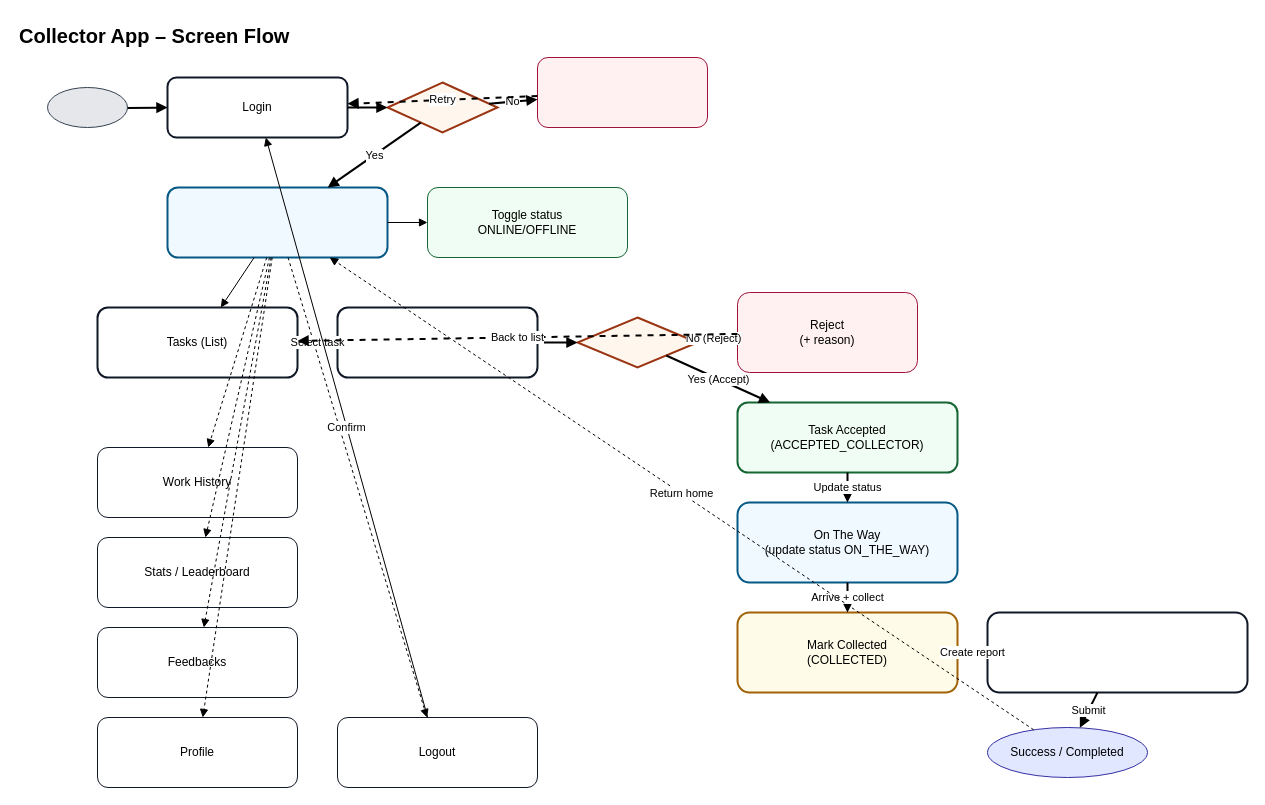
Some shapes in this 1265 by 805 pixel diagram are drawn without their labels. Each missing label, with the box of its shape:
Accept task?: (576, 316, 698, 368)
Auth OK?: (386, 81, 498, 133)
Create Collection Report (weight, notes, photo): (986, 611, 1248, 693)
Dashboard (Home): (166, 186, 388, 258)
Show error + retry: (536, 56, 708, 128)
Start: (46, 86, 128, 128)
Task Detail: (336, 306, 538, 378)
